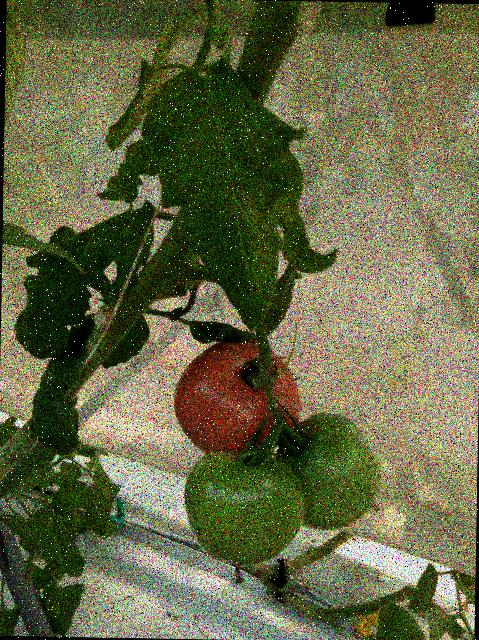b_fully_ripened: (172, 341, 303, 457)
b_green: (182, 451, 307, 567), (273, 412, 384, 532)
